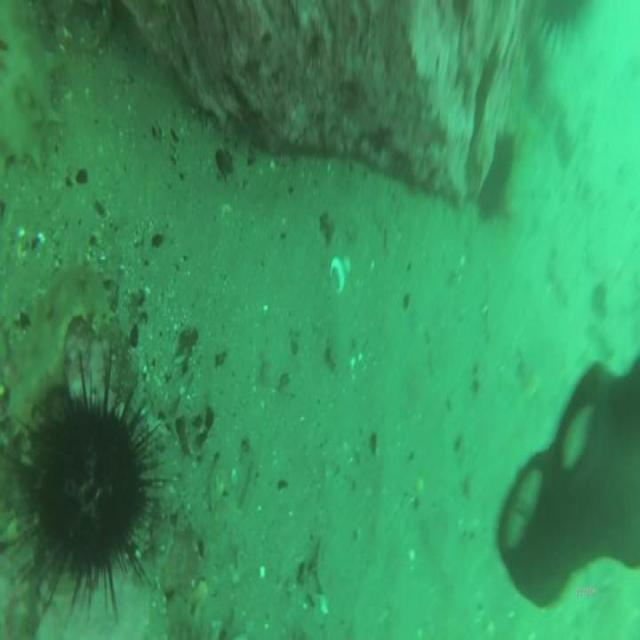echinus: (3, 345, 168, 624), (474, 131, 516, 229), (529, 0, 589, 52)
holothurian: (0, 259, 110, 433), (0, 0, 68, 175)
